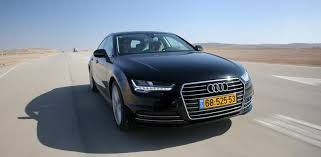licence: (197, 92, 236, 111)
